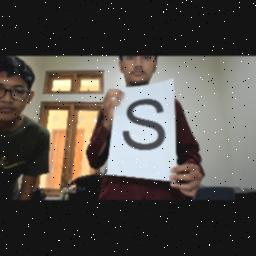s: (119, 96, 173, 156)
